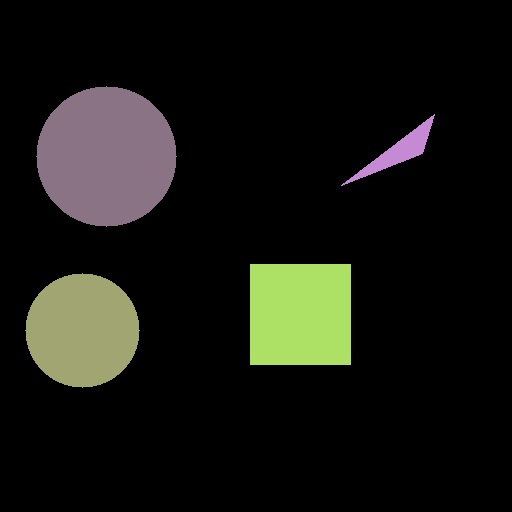circle: (36, 86, 176, 226), (25, 273, 139, 387)
square: (250, 264, 350, 364)
triangle: (341, 114, 434, 185)
